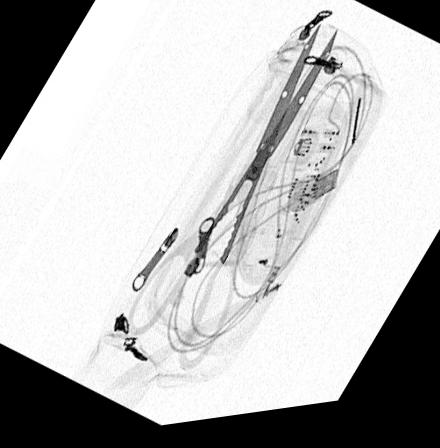Scissors: (120, 25, 344, 383)
